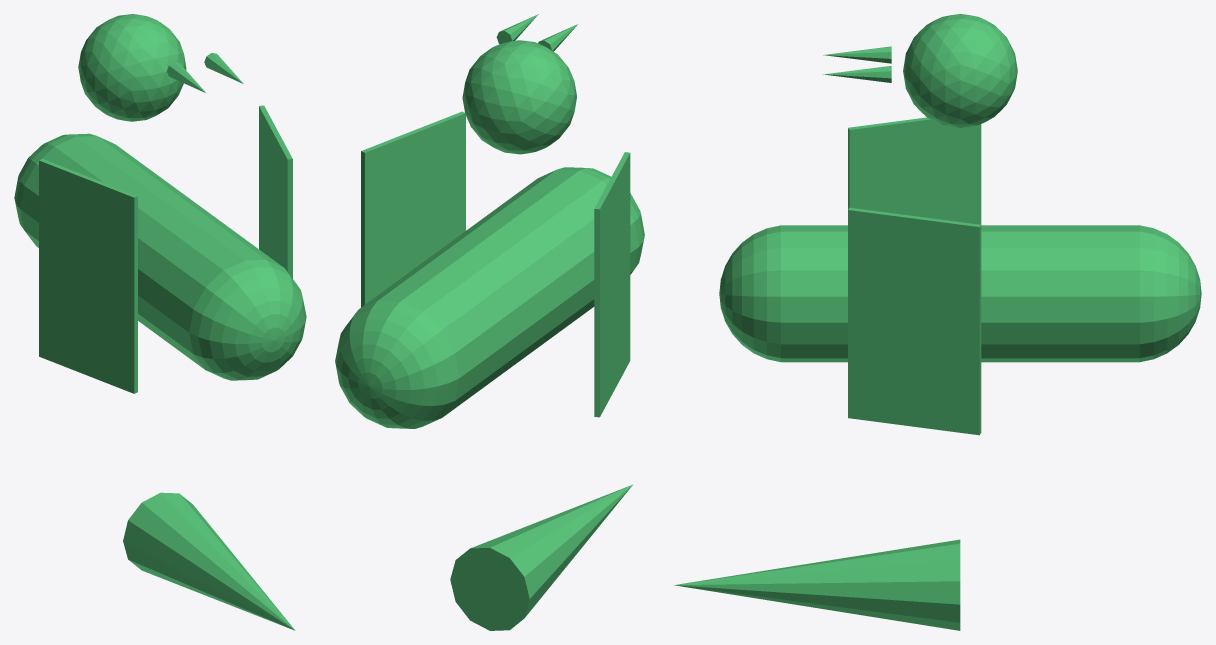
The model's file is BoneDragon_A_Basic.glb.
The picture shows the model from 3 angles, left to right: view 1: azimuth 30°, elevation 25°; view 2: azimuth 150°, elevation 25°; view 3: azimuth 270°, elevation 25°; orthographic projection. The views are drawn at different scales.
Parts seen in each view (by area): view 1: world; view 2: world; view 3: world.
Boxes of the visible parts, x1=… form: world: x1=14, y1=14, x2=306, y2=630; world: x1=335, y1=14, x2=644, y2=630; world: x1=674, y1=14, x2=1201, y2=630.
Size of the model in its own units: 1.69 by 4 by 3.23.
